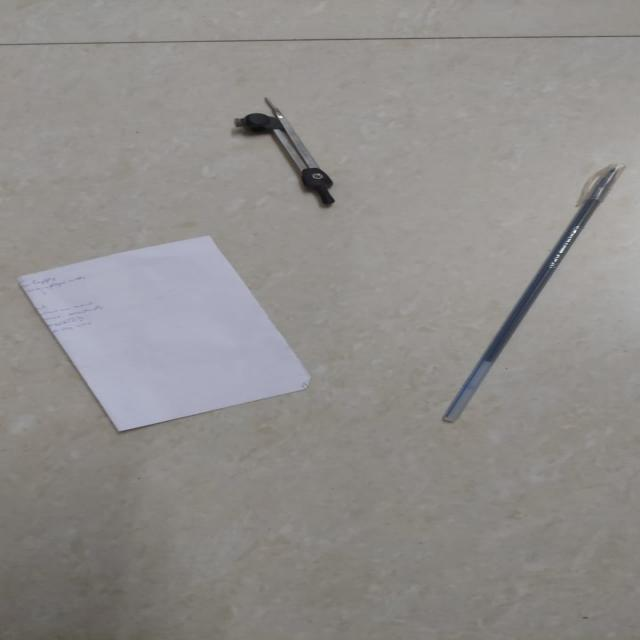metal: (233, 95, 335, 207)
paper: (7, 233, 318, 434)
plastic: (434, 160, 634, 429)
